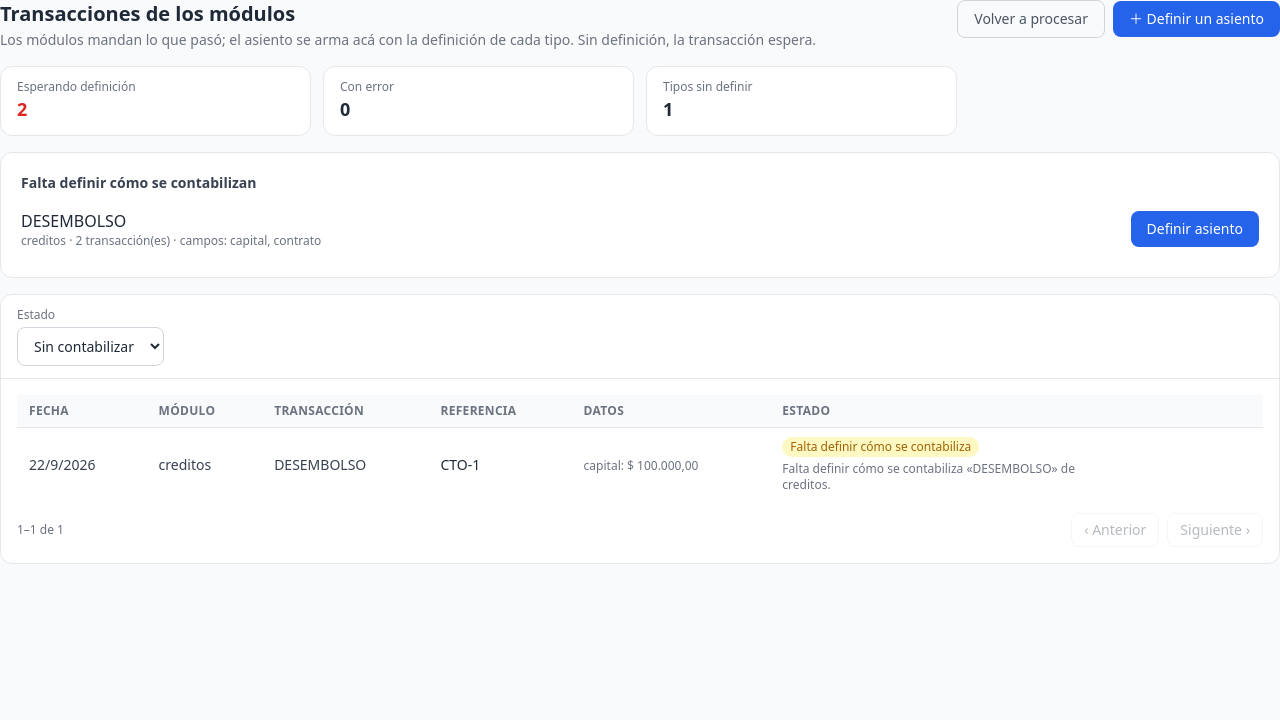
Scenario: Transacciones de los módulos › define el asiento y contabiliza lo que estaba esperando
Click the button "Definir asiento": x=1195, y=229 [1130,211,1259,247]
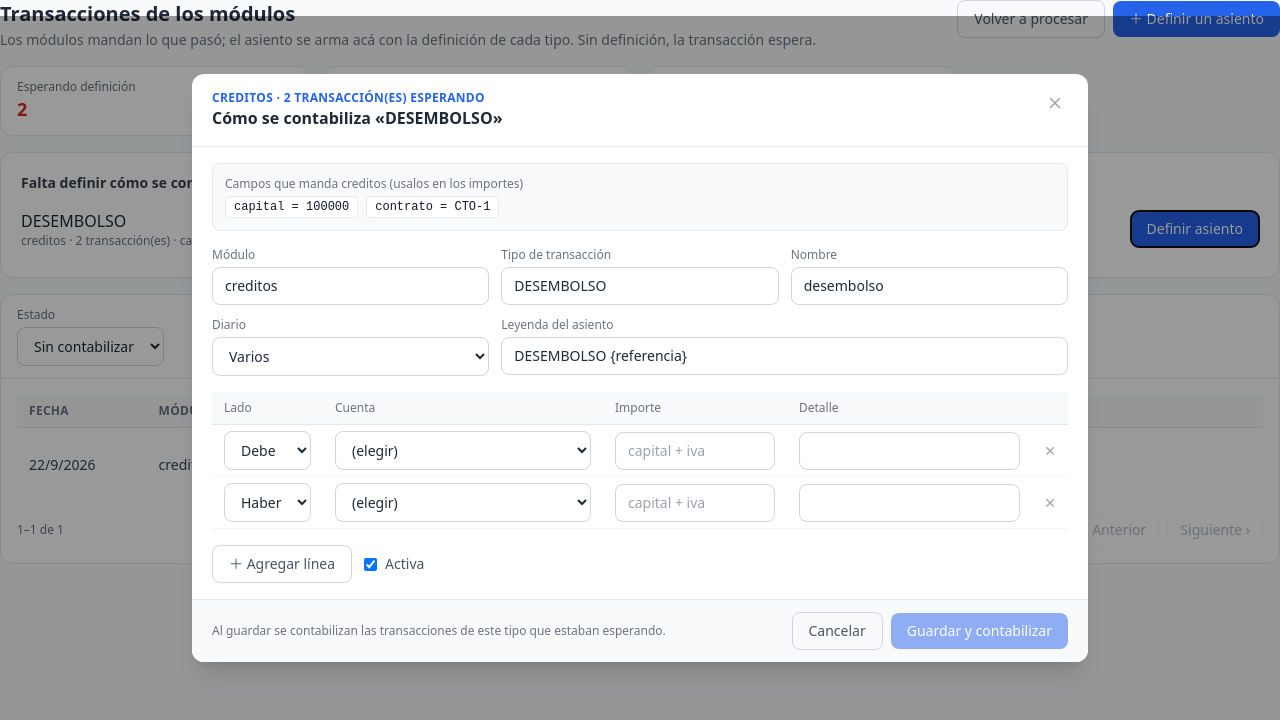
Result: the text "capital = 100000" is shown at [225,196,358,218]
Select "1.1.04 · Préstamos otorgados" in the dropdown named "Cuenta 1": x=463, y=450 [335,431,591,470]
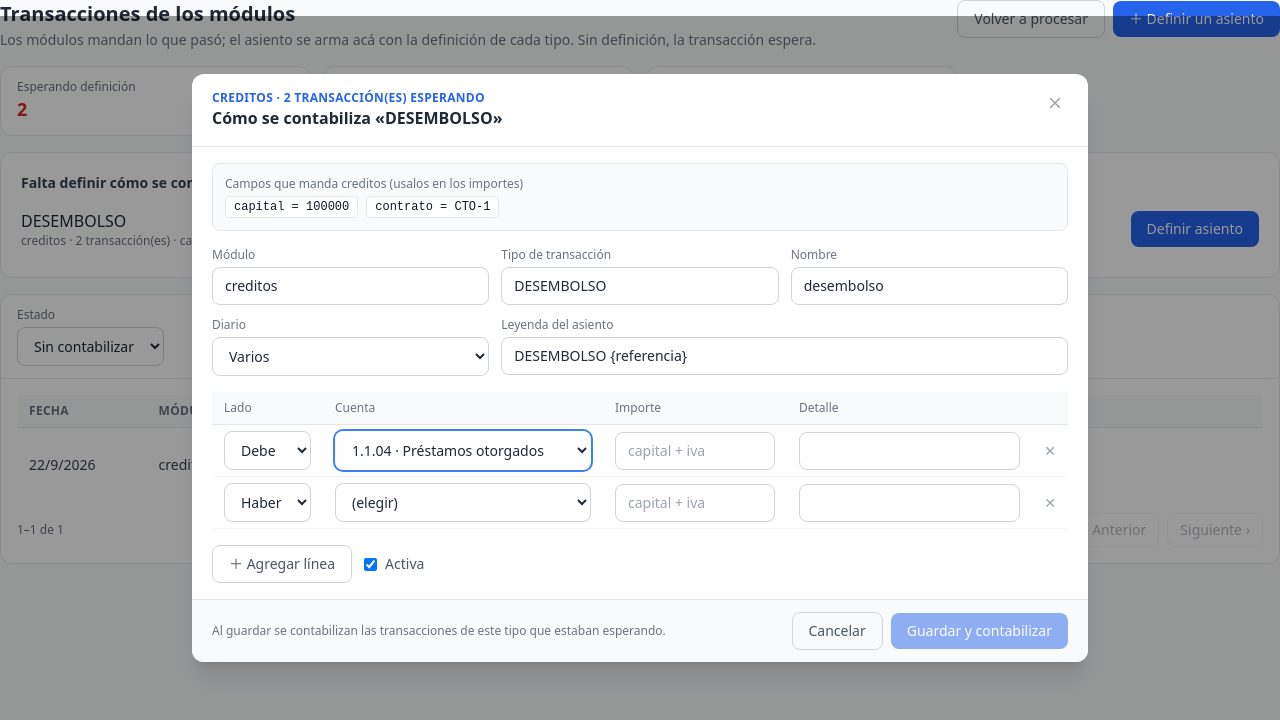
In the field named "Importe 1": x=695, y=450 [615,432,775,470], type "capital"
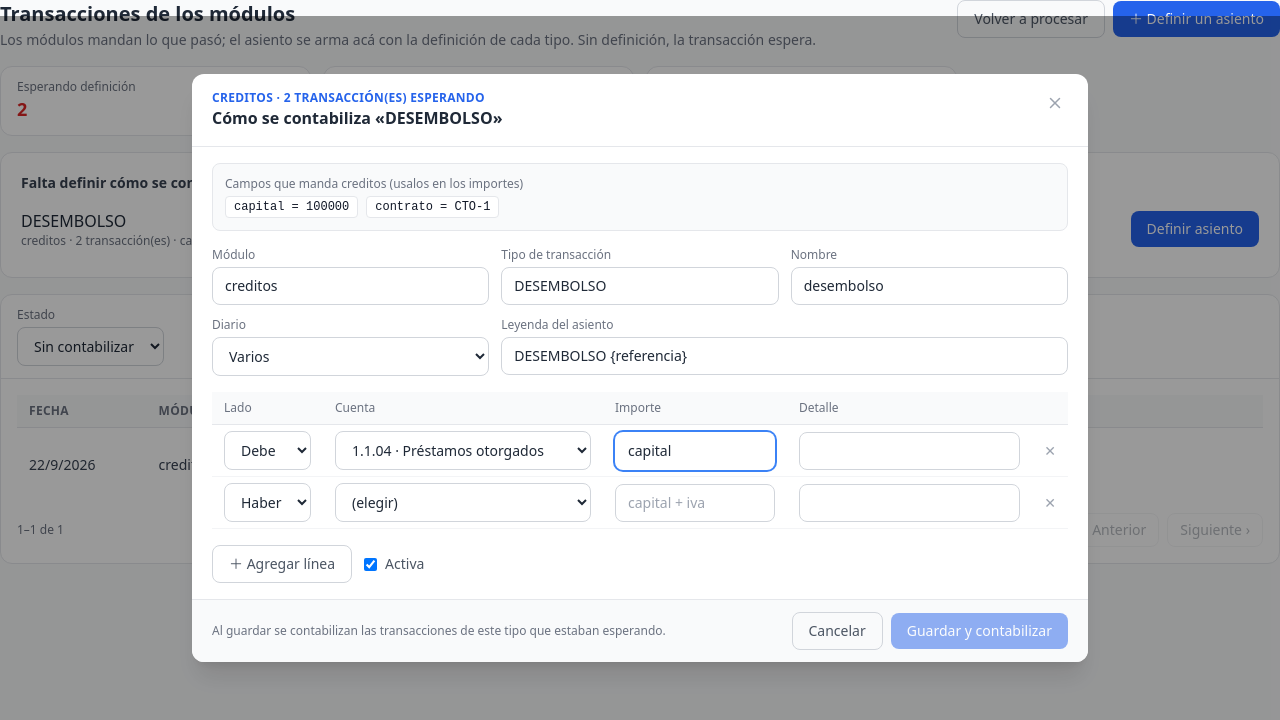
Select "1.1.02 · Bancos" in the dropdown named "Cuenta 2": x=463, y=502 [335,483,591,522]
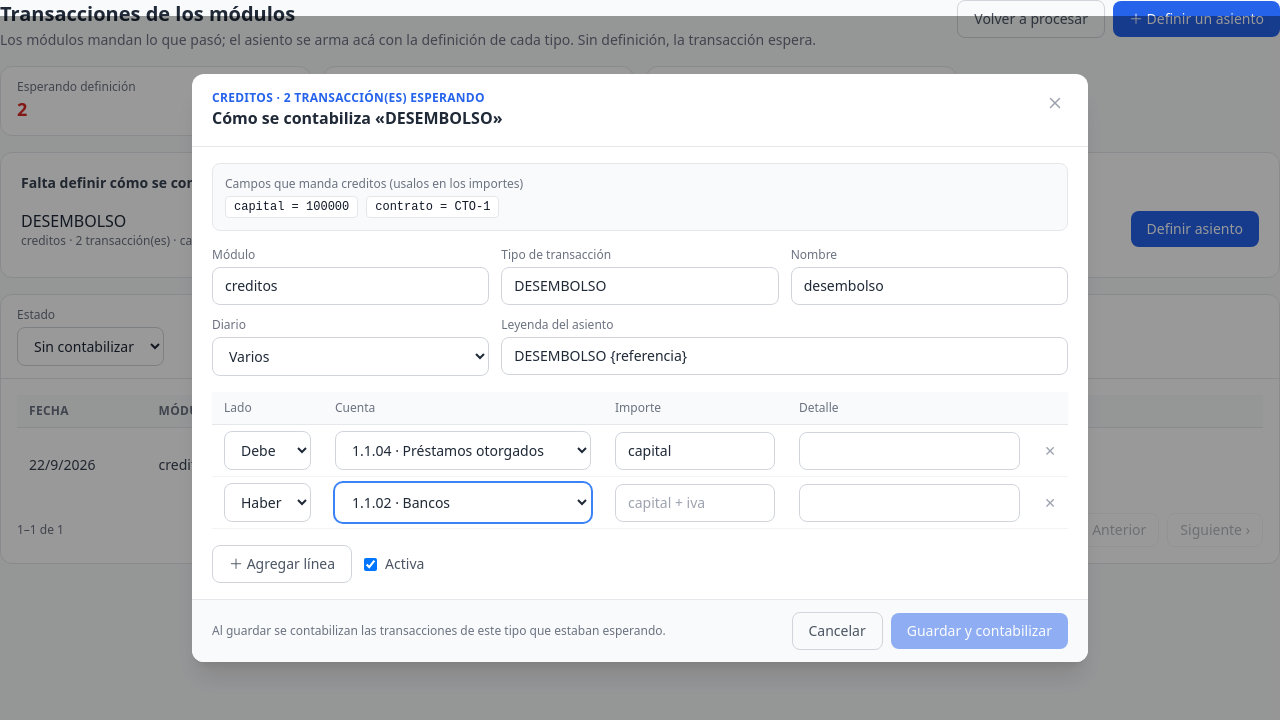
In the field named "Importe 2": x=695, y=502 [615,484,775,522], type "capital"
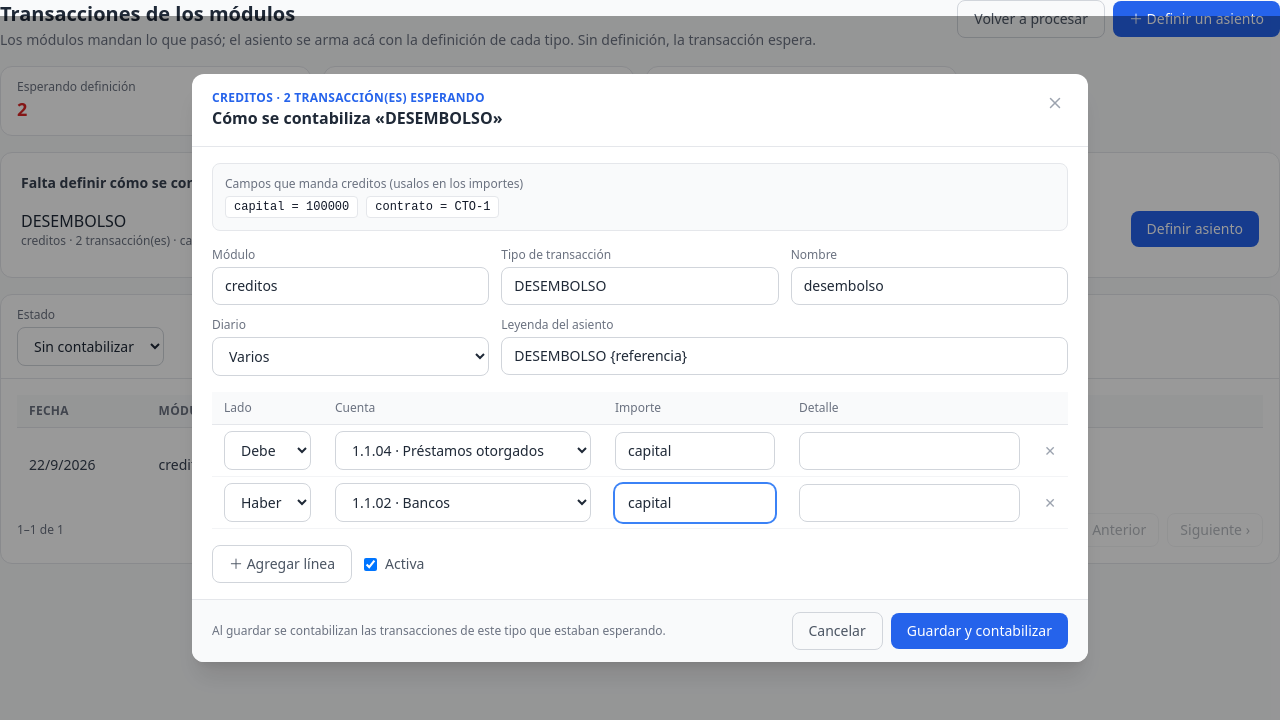
Click the button "Guardar y contabilizar": x=979, y=631 [891,613,1068,649]
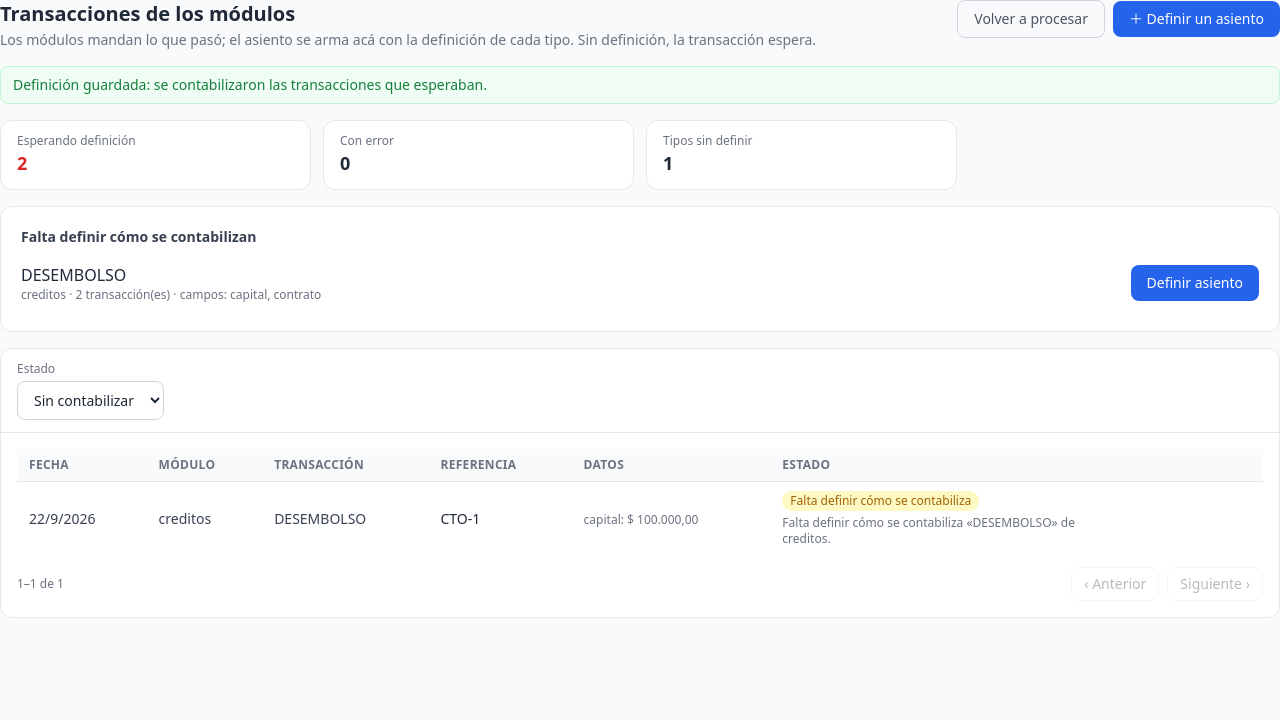
Expected: the cell "creditos" is shown, [147,482,262,555]
Result: the text "se contabilizaron las transacciones que esperaban" is shown at [13,75,487,94]
